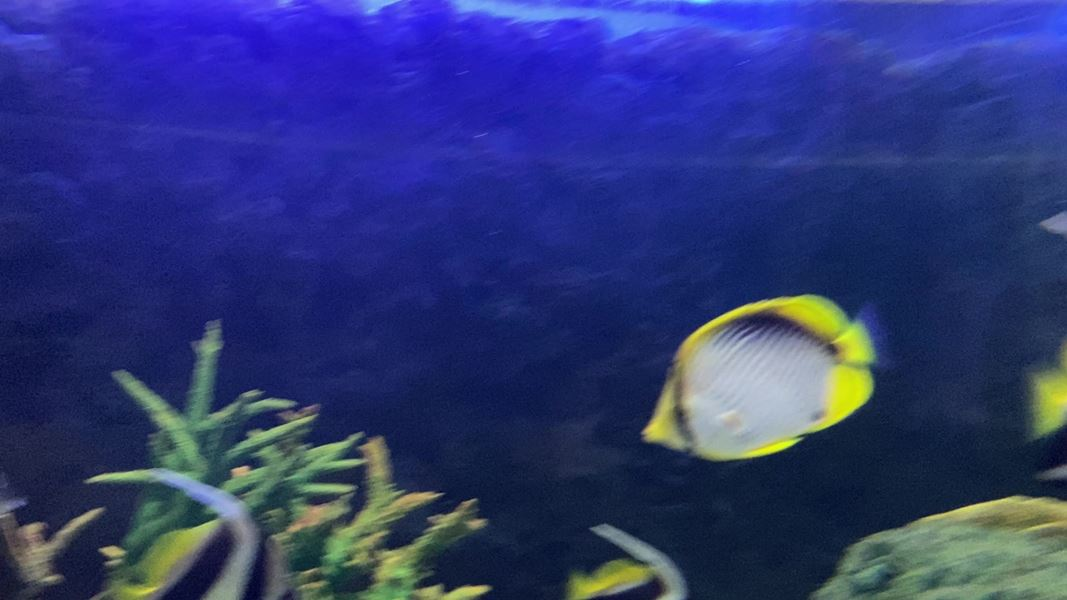Black-backed butterflyfish: (630, 278, 910, 473)
